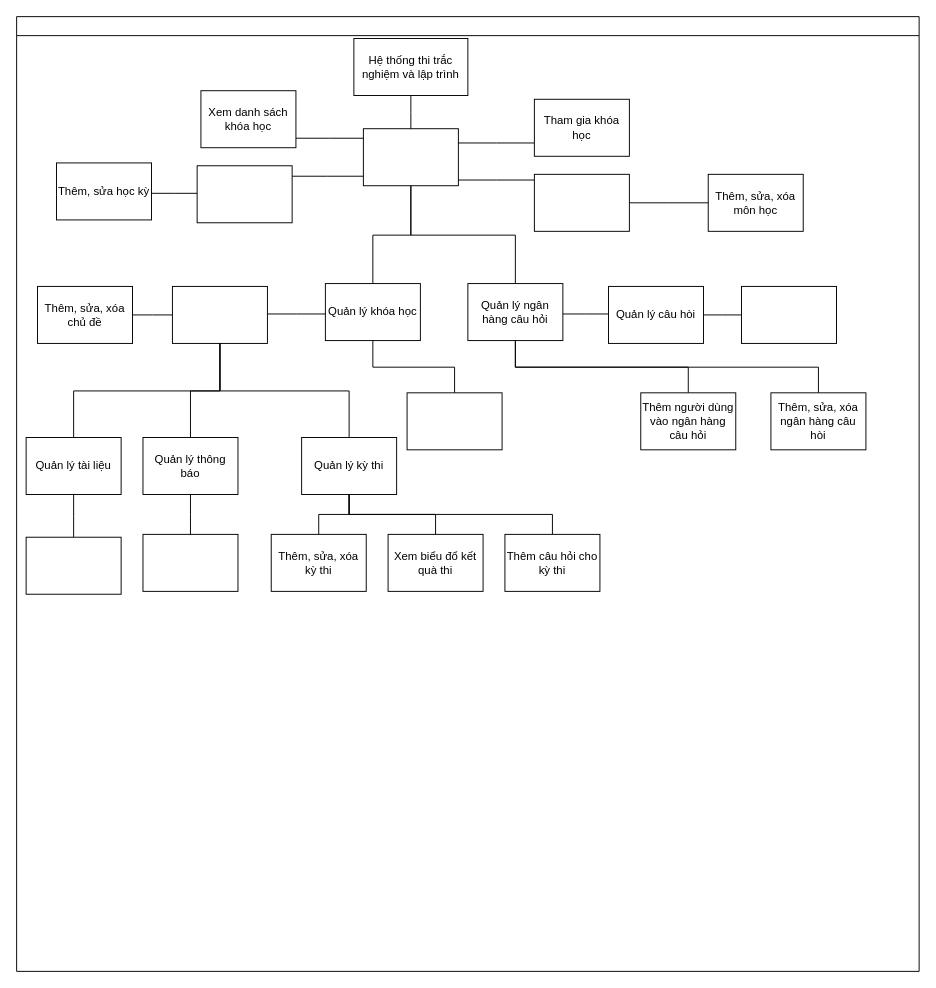
Image size: 936x988. Some labels were removed from this diagram. Here are the shapes that lost their labels. From the top down, the centre of each, then its label:
At (x=410, y=157): "Đăng nhập".
At (x=244, y=194): "Quản lý học kỳ".
At (x=581, y=202): "Quản lý môn học".
At (x=219, y=314): "Quản lý chủ đề".
At (x=788, y=314): "Thêm, sửa, xóa câu hỏi".
At (x=454, y=421): "Thêm, sửa, xóa khóa học".
At (x=73, y=565): "Thêm, sửa, xóa tài liệu".
At (x=190, y=562): "Thêm,sửa, xóa thông báo".
